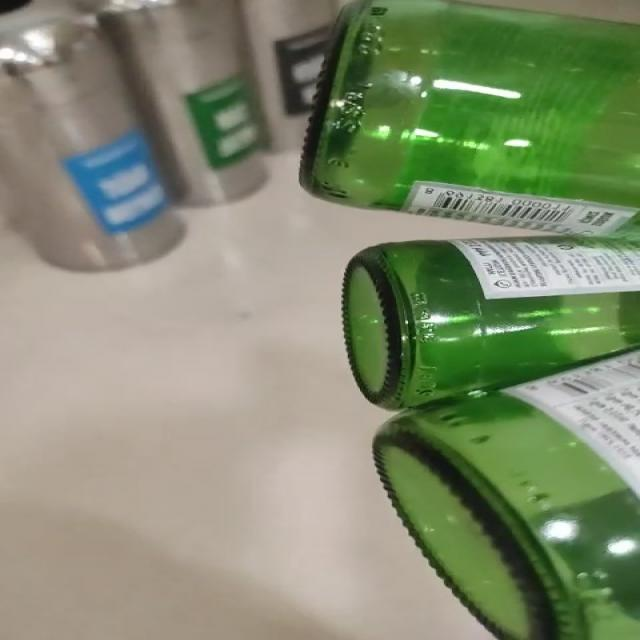glass: (300, 0, 639, 640)
